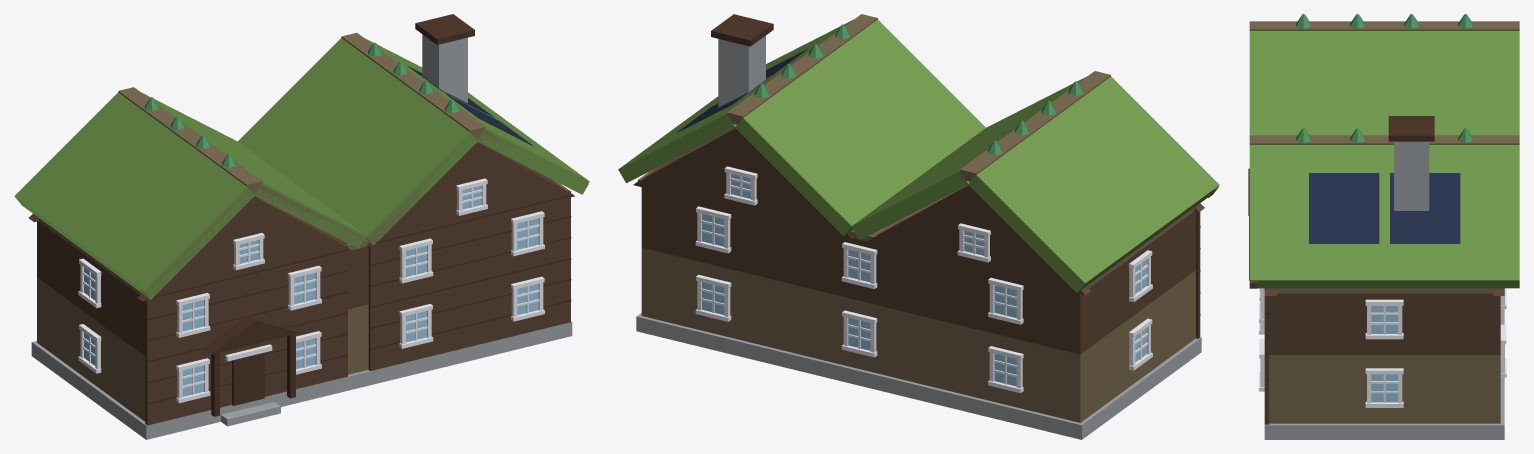
File: house-2x1-2f-third-turf-a-solar.glb
3 renders of one model, left to right at view 1: azimuth 30°, elevation 25°; view 2: azimuth 150°, elevation 25°; view 3: azimuth 270°, elevation 25°, orthographic. The views are drawn at different scales.
Parts seen in each view (by area): view 1: house-2x1-2f-third-turf-a-solar; view 2: house-2x1-2f-third-turf-a-solar; view 3: house-2x1-2f-third-turf-a-solar.
Boxes of the visible parts, x1,y1,x2,y2 form: house-2x1-2f-third-turf-a-solar: [14, 14, 589, 439]; house-2x1-2f-third-turf-a-solar: [618, 14, 1219, 439]; house-2x1-2f-third-turf-a-solar: [1248, 14, 1519, 439].
Size of the model in its own units: 2 by 1.16 by 1.
1 material, 1 textured.
